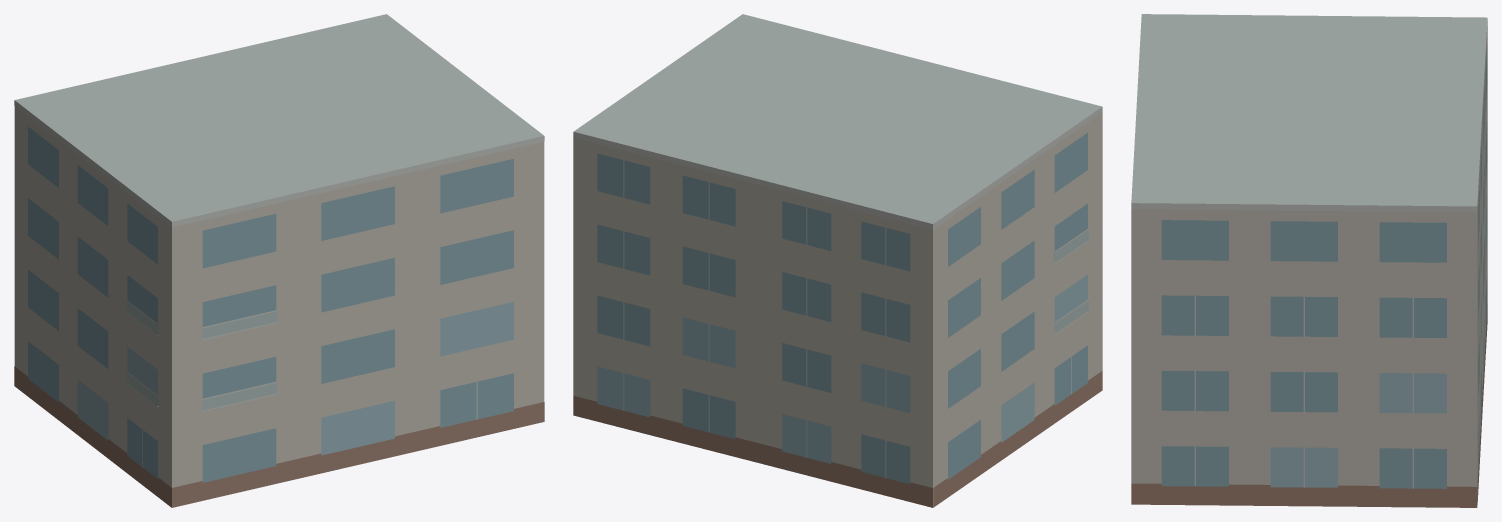
Rendered from residential-7037b81a-f4ba-4751-b56f-1aece4033494.glb.
The picture shows the model from 3 angles, left to right: view 1: azimuth 30°, elevation 25°; view 2: azimuth 150°, elevation 25°; view 3: azimuth 270°, elevation 25°; orthographic projection. The views are drawn at different scales.
Parts seen in each view (by area): view 1: residential-7037b81a-f4ba-4751-b56f-1aece4033494.tmp; view 2: residential-7037b81a-f4ba-4751-b56f-1aece4033494.tmp; view 3: residential-7037b81a-f4ba-4751-b56f-1aece4033494.tmp.
Boxes of the visible parts, x1=… form: residential-7037b81a-f4ba-4751-b56f-1aece4033494.tmp: x1=14, y1=14, x2=544, y2=507; residential-7037b81a-f4ba-4751-b56f-1aece4033494.tmp: x1=573, y1=14, x2=1102, y2=507; residential-7037b81a-f4ba-4751-b56f-1aece4033494.tmp: x1=1131, y1=14, x2=1487, y2=507.
Bounding box in the file's own units: 16.72 × 12.2 × 13.08.
